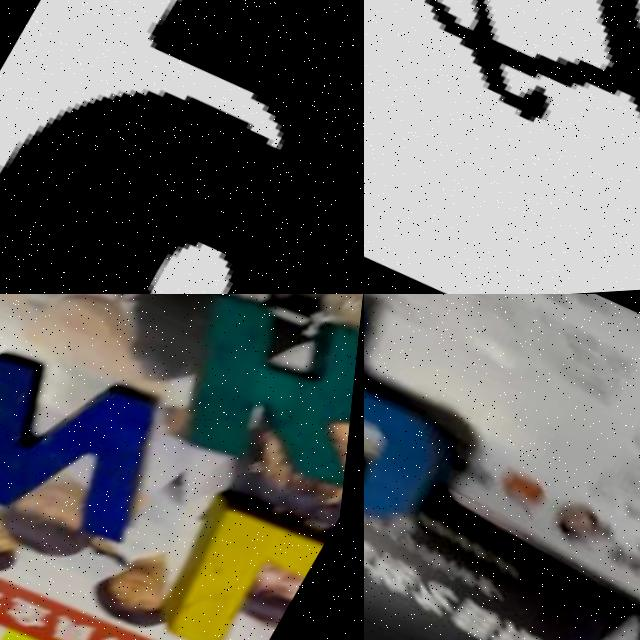9: (0, 0, 364, 294)
K: (158, 294, 364, 518)
L: (138, 472, 348, 640)
N: (0, 339, 197, 571)
P: (364, 294, 524, 553)
Z: (364, 0, 640, 240)
